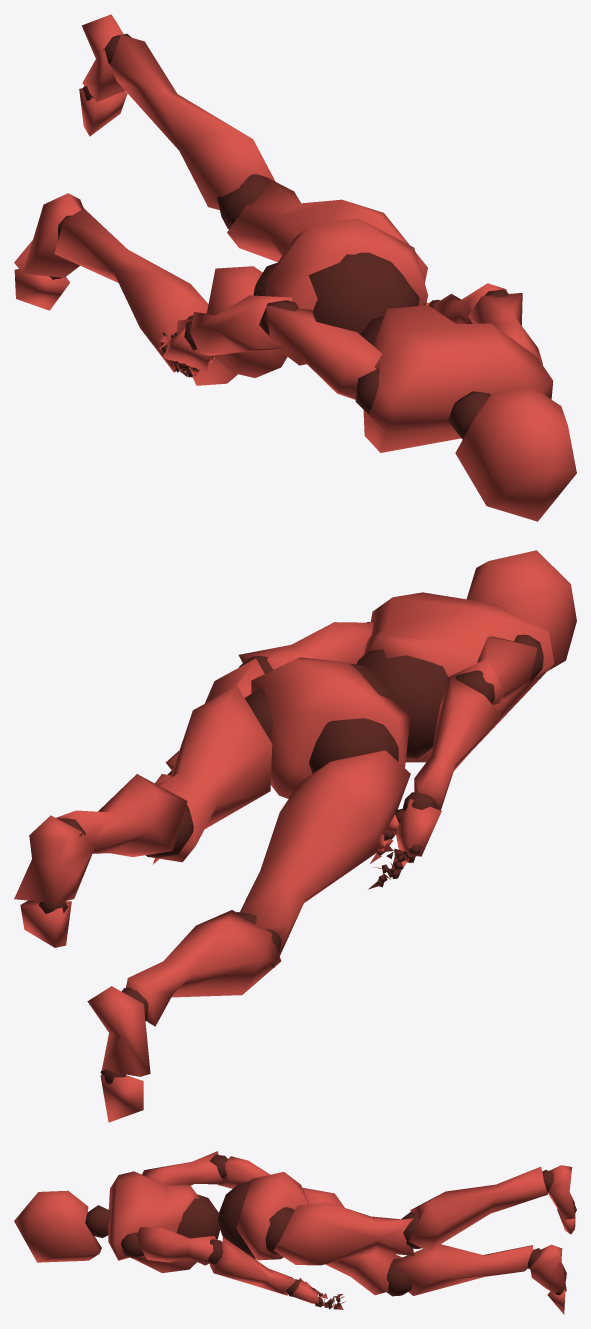
3 views of the same model, one above another, from view 1: azimuth 30°, elevation 25°; view 2: azimuth 150°, elevation 25°; view 3: azimuth 270°, elevation 25° (orthographic). The views are drawn at different scales.
Visible parts, largest first — view 1: Beta_Surface, Beta_Joints; view 2: Beta_Surface, Beta_Joints; view 3: Beta_Surface, Beta_Joints.
Boxes of the visible parts, bbox=[...] form: Beta_Surface: bbox=[14, 14, 576, 521]; Beta_Joints: bbox=[49, 33, 508, 439]; Beta_Surface: bbox=[14, 550, 576, 1122]; Beta_Joints: bbox=[38, 622, 543, 1084]; Beta_Surface: bbox=[14, 1151, 575, 1314]; Beta_Joints: bbox=[85, 1154, 576, 1309].
Bounding box in the file's own units: 0.6076 × 0.5876 × 1.8.
